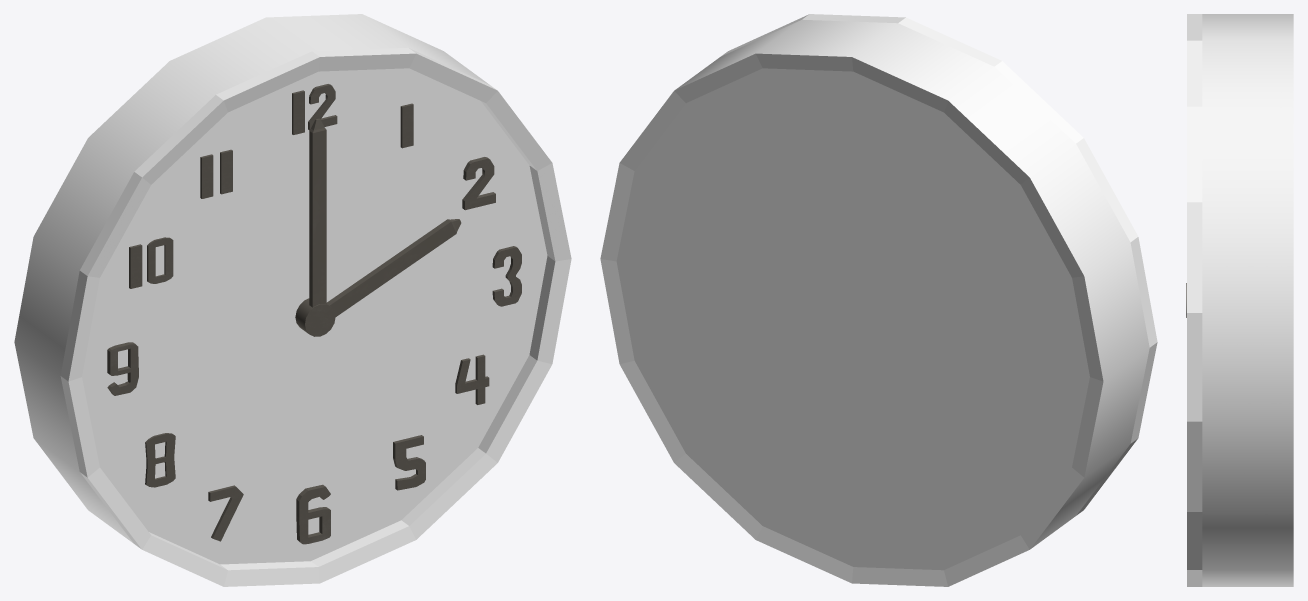
The model's file is clock_lo.fbx.
3 views of the same model, side by side, from view 1: azimuth 30°, elevation 25°; view 2: azimuth 150°, elevation 25°; view 3: azimuth 270°, elevation 25° (orthographic).
Visible parts, largest first — view 1: clockFace, longArm, shortArm, six, eight, five, nine, two, three, armConnector, four, zero (+2 smaller); view 2: clockFace; view 3: clockFace.
Boxes of the visible parts, left/top/right/bottom form: clockFace: left=14, top=14, right=571, bottom=586; longArm: left=309, top=118, right=326, bottom=307; shortArm: left=326, top=219, right=461, bottom=316; six: left=296, top=484, right=330, bottom=544; eight: left=145, top=433, right=175, bottom=487; five: left=393, top=435, right=425, bottom=490; nine: left=107, top=342, right=138, bottom=395; two: left=462, top=157, right=495, bottom=210; three: left=492, top=246, right=521, bottom=306; armConnector: left=295, top=298, right=335, bottom=336; four: left=455, top=354, right=489, bottom=404; zero: left=147, top=237, right=173, bottom=283; clockFace: left=600, top=14, right=1157, bottom=586; clockFace: left=1187, top=14, right=1293, bottom=586.
Bounding box in the file's own units: 89.12 × 89.12 × 16.67.
1 material, 1 textured.
